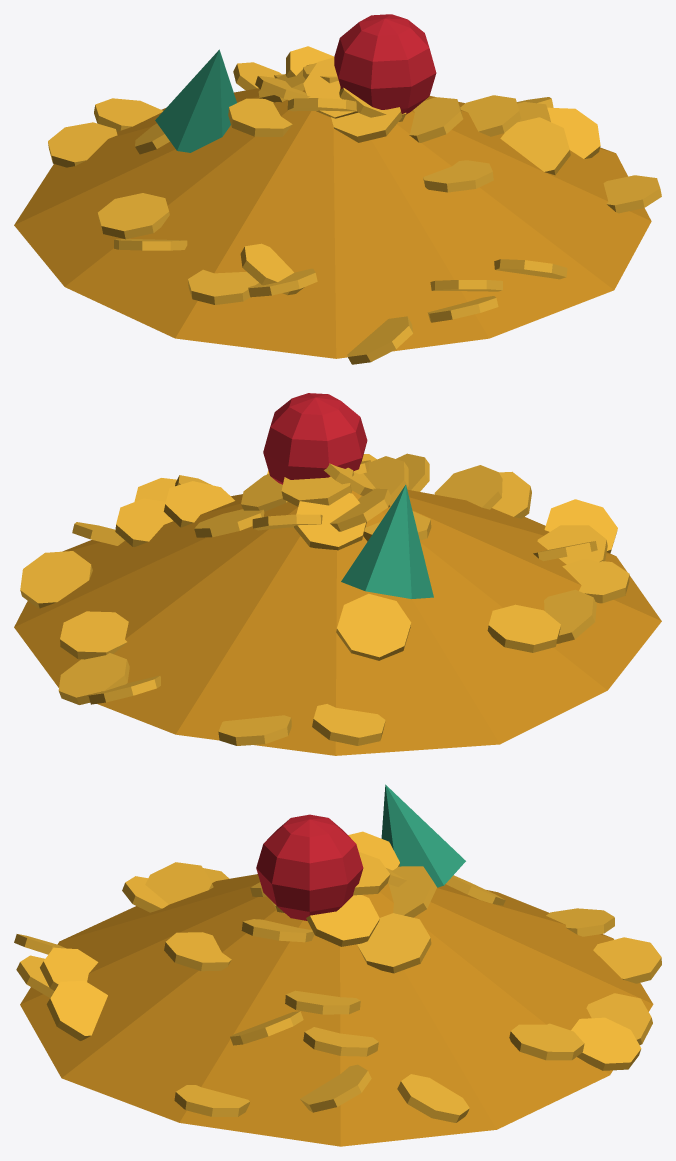
The model's file is GoldPile.fbx.
3 renders of one model, top to bottom at view 1: azimuth 30°, elevation 25°; view 2: azimuth 150°, elevation 25°; view 3: azimuth 270°, elevation 25°, orthographic.
Parts seen in each view (by area): view 1: GoldPile; view 2: GoldPile; view 3: GoldPile.
Part boxes in pixels (bbox=[...]): GoldPile: bbox=[14, 14, 661, 364]; GoldPile: bbox=[14, 393, 661, 755]; GoldPile: bbox=[14, 784, 661, 1146].
Bounding box in the file's own units: 476 × 177 × 483.
Materials: 1 (1 with a texture image).
